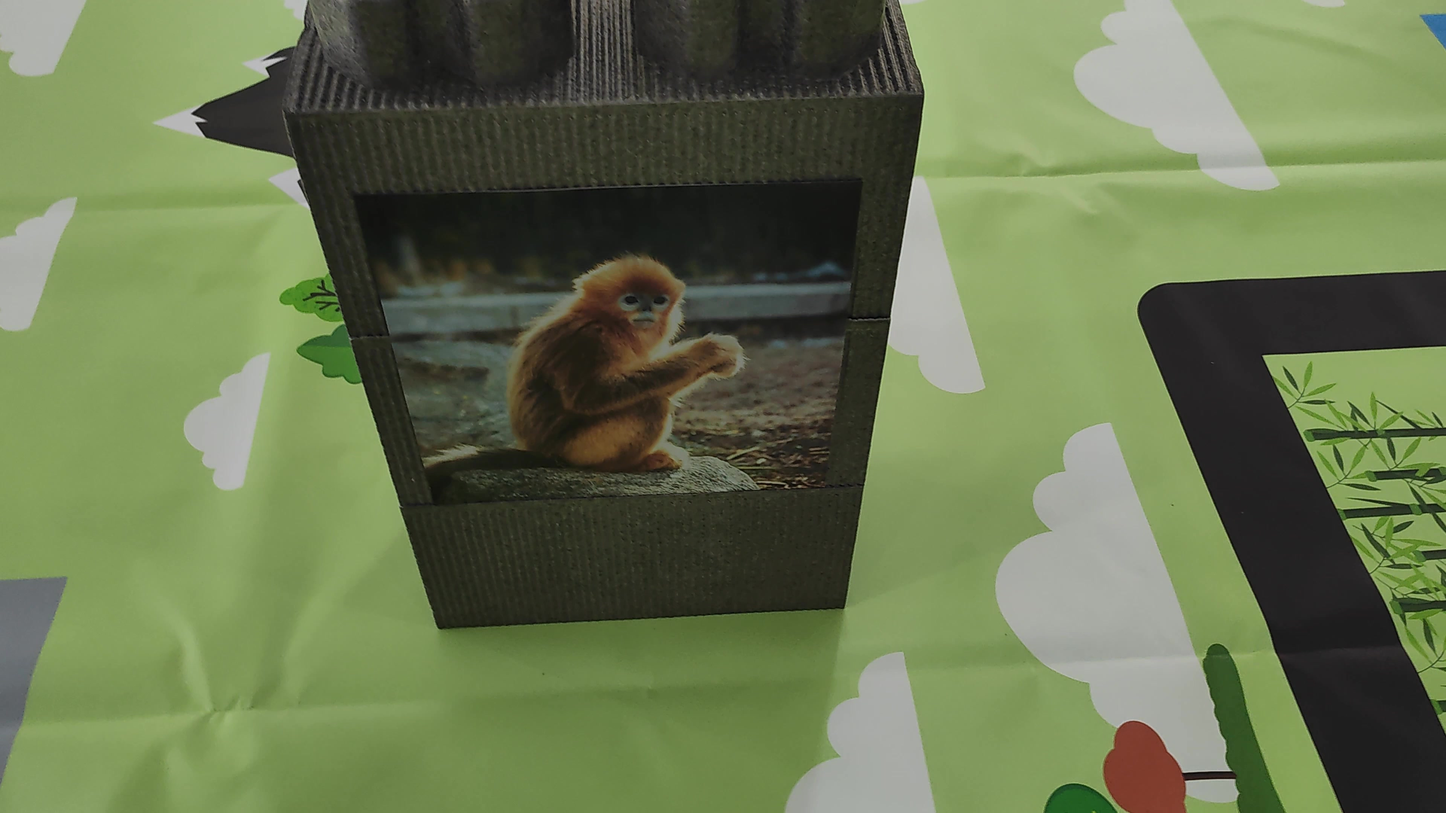monkey: (471, 231, 808, 487)
